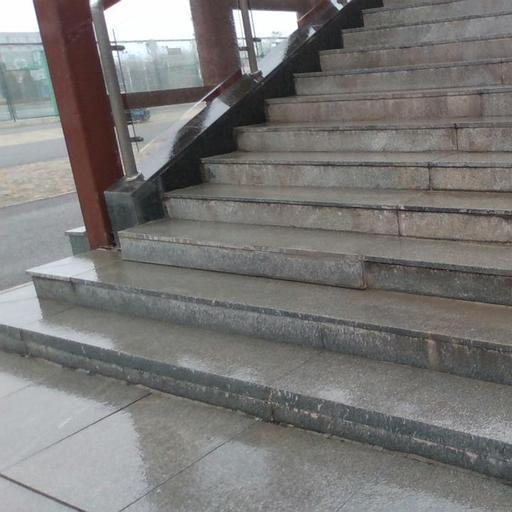stairs: (0, 0, 511, 479)
